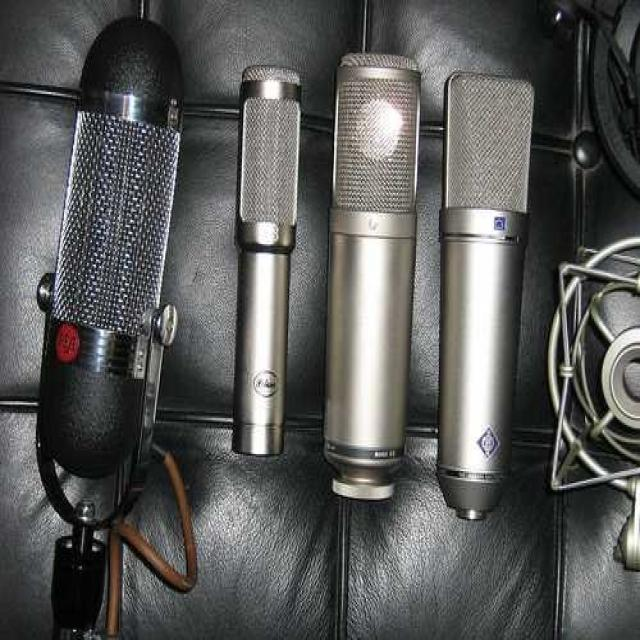microphone: (39, 14, 184, 490), (322, 56, 424, 496), (436, 72, 536, 514), (231, 64, 302, 460)
